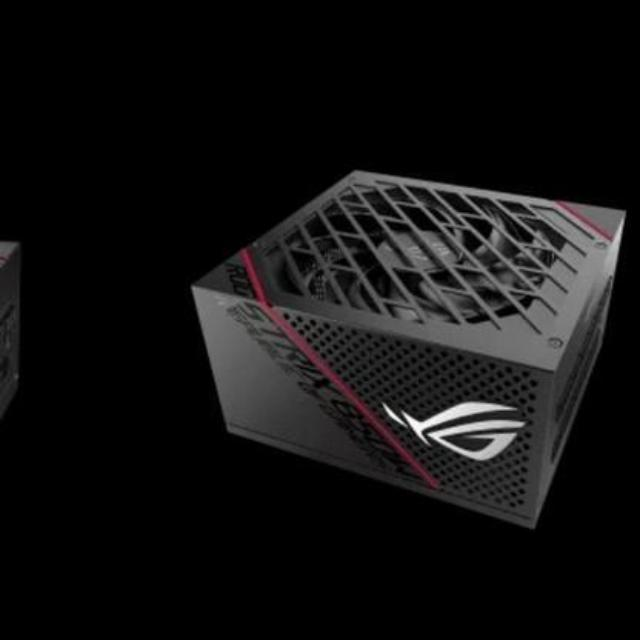PSU: (176, 148, 638, 530)
